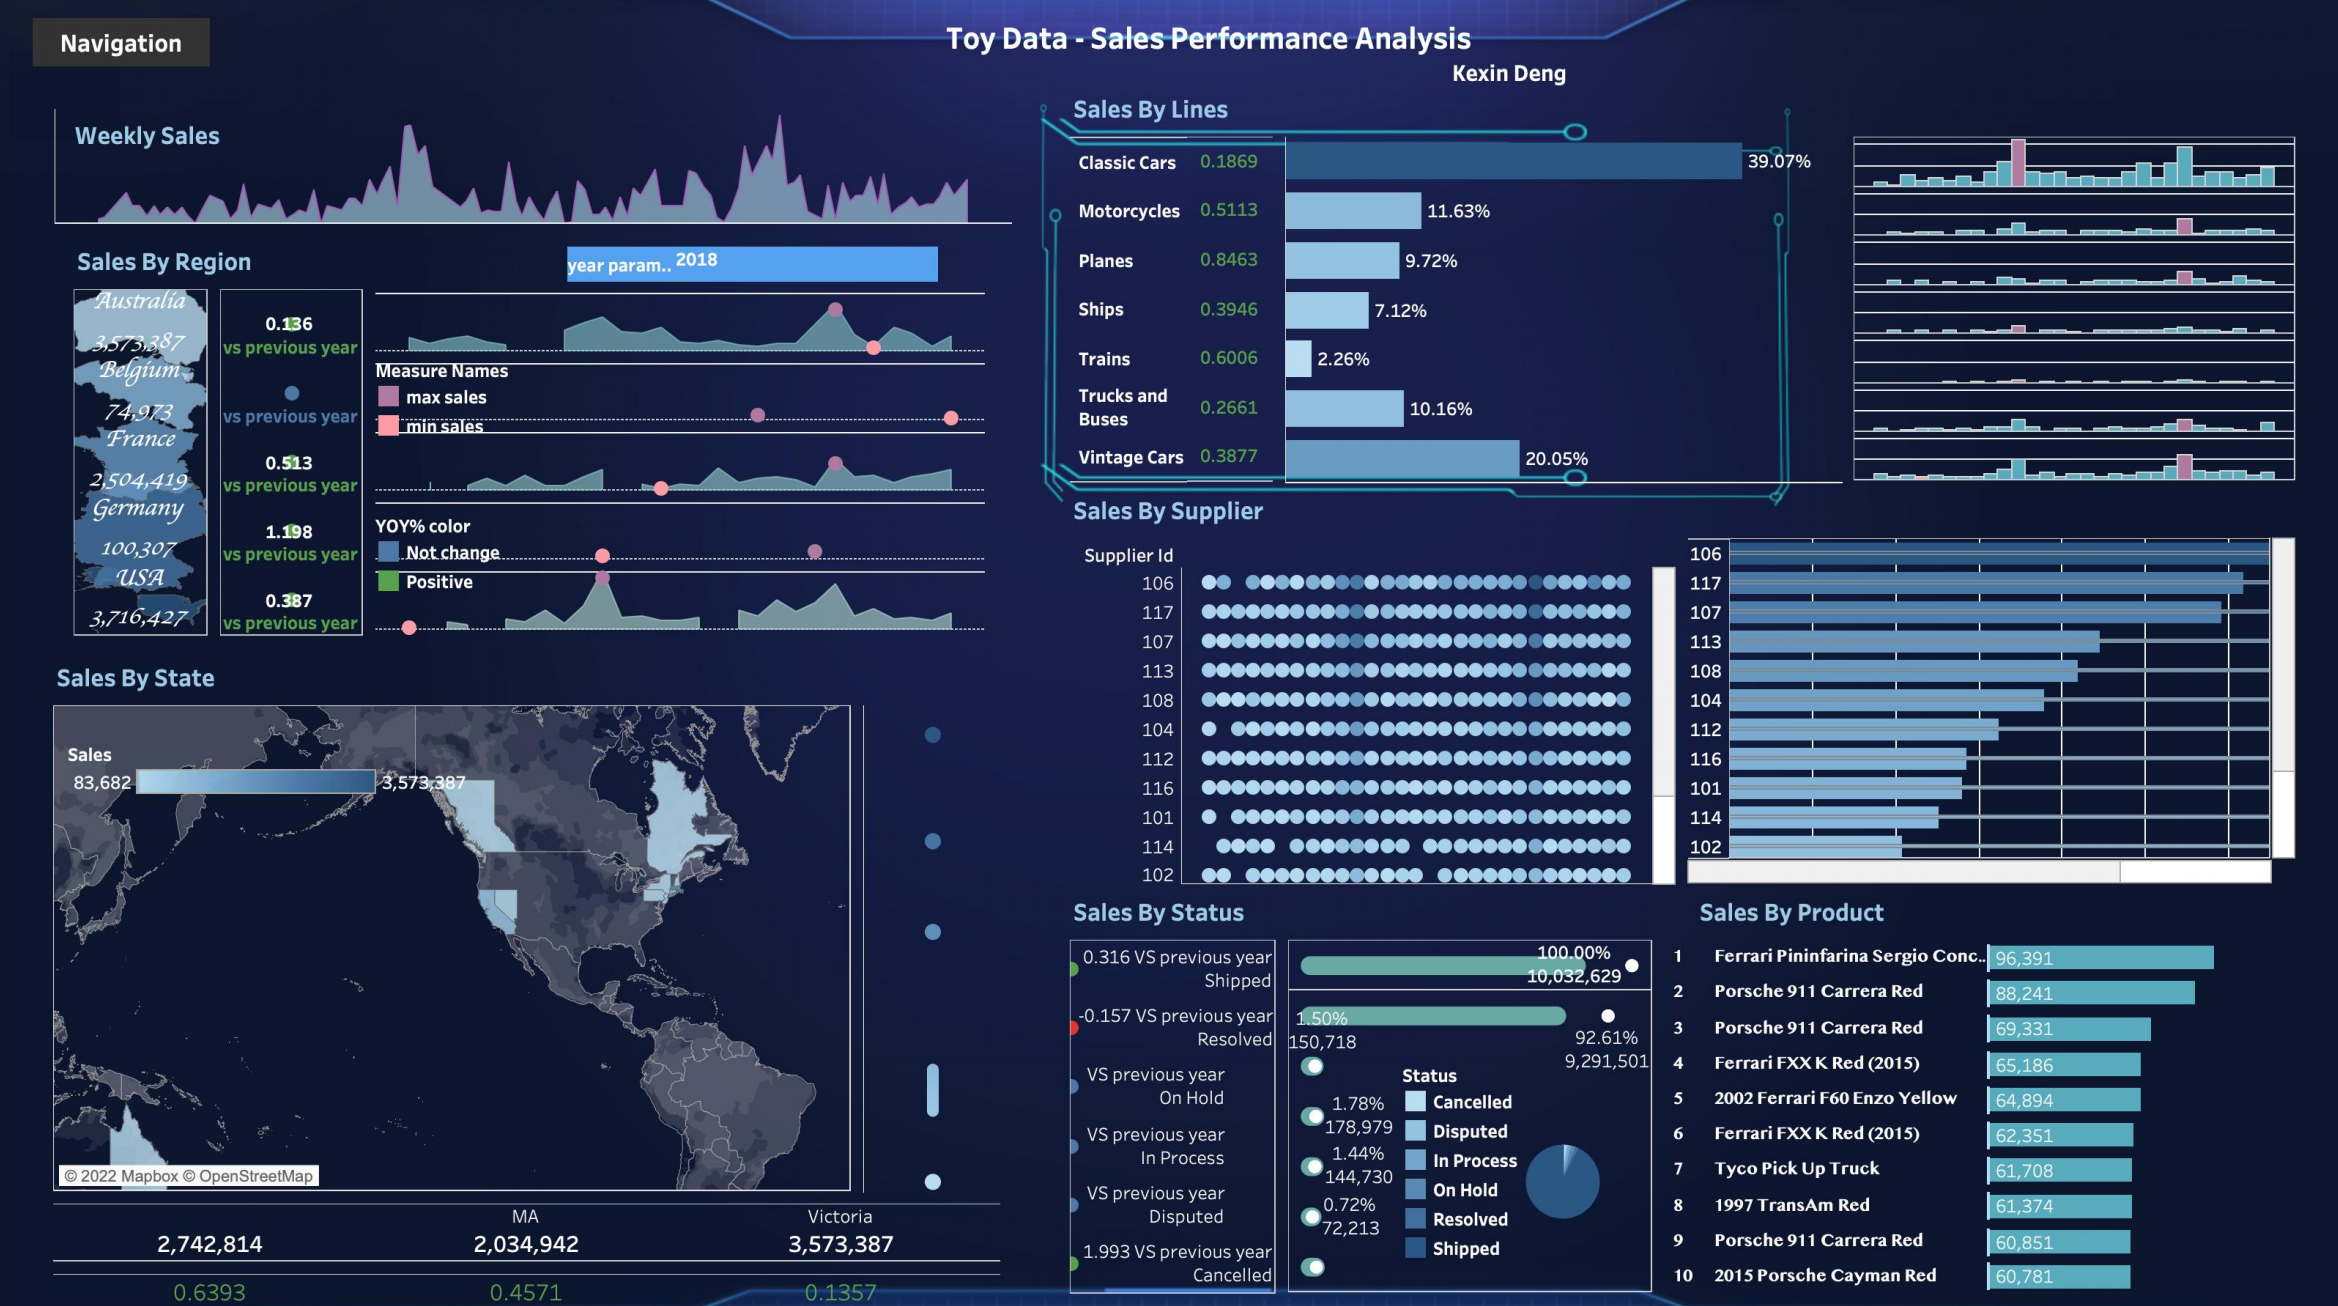

This screenshot's page, from the dashboard's own definition file:
{"tool":"tableau","page":{"name":"Dark Dashboard","canvas":[1600,900],"ordinal":0},"visuals":[{"type":"image","param":"/Users/dengkexin/Desktop/â��Pngtreeâ��frame text box transparent high_3891429.pn","box":[8,8,396,442]},{"type":"image","box":[404,8,396,442]},{"type":"image","box":[800,8,396,442]},{"type":"dashboard-object","box":[1196,8,396,442]},{"type":"text","box":[646,13,429,51]},{"type":"dashboard-object","box":[25,15,121,33]},{"type":"text","box":[729,62,845,30]},{"type":"image","param":"/Users/dengkexin/Desktop/图片 1.png","box":[704,71,550,279]},{"type":"worksheet","title":"weekly sales trend of toy data-header (3)","mark":"Area","rows":["sales"],"cols":["order_date"],"box":[40,77,653,78]},{"type":"text","box":[51,81,105,27]},{"type":"worksheet","title":"Sheet 16 (3)","mark":"Automatic","rows":["line"],"box":[729,92,147,244]},{"type":"worksheet","title":"Sheet 17 (3)","mark":"Automatic","rows":["line"],"cols":["sales"],"box":[876,92,388,244]},{"type":"worksheet","title":"monthly sales trend line (3)","mark":"Bar","rows":["line","sales"],"cols":["order_date"],"box":[1264,92,310,244]},{"type":"text","box":[49,166,630,30]},{"type":"parameter","param":"[Parameters].[Parameter 1]","box":[390,171,253,24]},{"type":"worksheet","title":"country of sales not null (3)","mark":"Multipolygon","rows":["COUNTRY"],"cols":["Calculation_763219434784202757","Calculation_763219434784202757"],"box":[49,196,100,246]},{"type":"worksheet","title":"yoy% - country (3)","mark":"Automatic","rows":["COUNTRY"],"cols":["Calculation_763219434798657546","Calculation_763219434798657546"],"box":[149,196,106,246]},{"type":"worksheet","title":"maxmin country (3)","mark":"Area","rows":["COUNTRY","sales"],"cols":["order_date"],"box":[255,196,424,246]},{"type":"legend","title":"maxmin country (3)","param":"[federated.1hrus1y0ihuz5f1a5701a112s6r7].[:Measure Names]","box":[258,245,224,86]},{"type":"text","box":[729,336,845,30]},{"type":"legend","title":"yoy% - country (3)","param":"[federated.1hrus1y0ihuz5f1a5701a112s6r7].[usr:Calculation_763219434796736520:nk]","box":[258,351,174,67]},{"type":"worksheet","title":"monthly sales trend supplier (3)","mark":"Circle","rows":["supplier_id"],"cols":["order_date"],"box":[729,366,422,244]},{"type":"worksheet","title":"supplier sales rank (3)","mark":"Bar","rows":["supplier_id"],"cols":["sales","Calculation_763219434831826963"],"box":[1151,366,423,244]},{"type":"text","box":[35,450,655,30]},{"type":"worksheet","title":"map of sales by state (3)","mark":"Multipolygon","box":[35,480,553,340]},{"type":"worksheet","title":"map-color legend (3)","mark":"Line","rows":["sales"],"box":[588,480,102,340]},{"type":"image","box":[1422,481,108,380]},{"type":"legend","title":"map of sales by state (3)","param":"[federated.1hrus1y0ihuz5f1a5701a112s6r7].[sum:sales:qk]","box":[49,505,277,176]},{"type":"text","box":[729,610,845,30]},{"type":"worksheet","title":"yoy% - status (3)","mark":"Automatic","rows":["status"],"cols":["Calculation_763219434798657546","Calculation_763219434798657546"],"box":[729,640,149,250]},{"type":"worksheet","title":"sales status data (5)","mark":"Line","rows":["status"],"cols":["sales"],"box":[878,640,257,250]},{"type":"worksheet","title":"sales by product chart (3)","mark":"Automatic","rows":["Calculation_763219434820972560","name"],"cols":["sales","Calculation_763219434842198039"],"box":[1135,640,439,250]},{"type":"legend","title":"sales status data (6)","param":"[federated.1hrus1y0ihuz5f1a5701a112s6r7].[none:status:nk]","box":[959,726,149,137]},{"type":"worksheet","title":"sales status data (6)","mark":"Pie","box":[1019,755,101,108]},{"type":"worksheet","title":"top sales by state -kpi (3)","mark":"Automatic","cols":["STATE"],"box":[35,820,655,48]},{"type":"worksheet","title":"YOY% top state (3)","mark":"Automatic","cols":["STATE"],"box":[35,868,655,34]}]}

Visuals, with their boxes in screenshot pixels (x1, y1, x2, y2), scaled from the page's 1600x900 canvas onto the 2338x1306 screenshot:
image: {"x1": 12, "y1": 12, "x2": 590, "y2": 653}
image: {"x1": 590, "y1": 12, "x2": 1169, "y2": 653}
image: {"x1": 1169, "y1": 12, "x2": 1748, "y2": 653}
dashboard-object: {"x1": 1748, "y1": 12, "x2": 2326, "y2": 653}
text: {"x1": 944, "y1": 19, "x2": 1571, "y2": 93}
dashboard-object: {"x1": 37, "y1": 22, "x2": 213, "y2": 70}
text: {"x1": 1065, "y1": 90, "x2": 2300, "y2": 134}
image: {"x1": 1029, "y1": 103, "x2": 1832, "y2": 508}
"weekly sales trend of toy data-header (3)" worksheet (Area marks): {"x1": 58, "y1": 112, "x2": 1013, "y2": 225}
text: {"x1": 75, "y1": 118, "x2": 228, "y2": 157}
"Sheet 16 (3)" worksheet: {"x1": 1065, "y1": 134, "x2": 1280, "y2": 488}
"Sheet 17 (3)" worksheet: {"x1": 1280, "y1": 134, "x2": 1847, "y2": 488}
"monthly sales trend line (3)" worksheet (Bar marks): {"x1": 1847, "y1": 134, "x2": 2300, "y2": 488}
text: {"x1": 72, "y1": 241, "x2": 992, "y2": 284}
parameter: {"x1": 570, "y1": 248, "x2": 940, "y2": 283}
"country of sales not null (3)" worksheet (Multipolygon marks): {"x1": 72, "y1": 284, "x2": 218, "y2": 641}
"yoy% - country (3)" worksheet: {"x1": 218, "y1": 284, "x2": 373, "y2": 641}
"maxmin country (3)" worksheet (Area marks): {"x1": 373, "y1": 284, "x2": 992, "y2": 641}
"maxmin country (3)" legend: {"x1": 377, "y1": 356, "x2": 704, "y2": 480}
text: {"x1": 1065, "y1": 488, "x2": 2300, "y2": 531}
"yoy% - country (3)" legend: {"x1": 377, "y1": 509, "x2": 631, "y2": 607}
"monthly sales trend supplier (3)" worksheet (Circle marks): {"x1": 1065, "y1": 531, "x2": 1682, "y2": 885}
"supplier sales rank (3)" worksheet (Bar marks): {"x1": 1682, "y1": 531, "x2": 2300, "y2": 885}
text: {"x1": 51, "y1": 653, "x2": 1008, "y2": 697}
"map of sales by state (3)" worksheet (Multipolygon marks): {"x1": 51, "y1": 697, "x2": 859, "y2": 1190}
"map-color legend (3)" worksheet (Line marks): {"x1": 859, "y1": 697, "x2": 1008, "y2": 1190}
image: {"x1": 2078, "y1": 698, "x2": 2236, "y2": 1249}
"map of sales by state (3)" legend: {"x1": 72, "y1": 733, "x2": 476, "y2": 988}
text: {"x1": 1065, "y1": 885, "x2": 2300, "y2": 929}
"yoy% - status (3)" worksheet: {"x1": 1065, "y1": 929, "x2": 1283, "y2": 1291}
"sales status data (5)" worksheet (Line marks): {"x1": 1283, "y1": 929, "x2": 1659, "y2": 1291}
"sales by product chart (3)" worksheet: {"x1": 1659, "y1": 929, "x2": 2300, "y2": 1291}
"sales status data (6)" legend: {"x1": 1401, "y1": 1054, "x2": 1619, "y2": 1252}
"sales status data (6)" worksheet (Pie marks): {"x1": 1489, "y1": 1096, "x2": 1637, "y2": 1252}
"top sales by state -kpi (3)" worksheet: {"x1": 51, "y1": 1190, "x2": 1008, "y2": 1260}
"YOY% top state (3)" worksheet: {"x1": 51, "y1": 1260, "x2": 1008, "y2": 1305}
